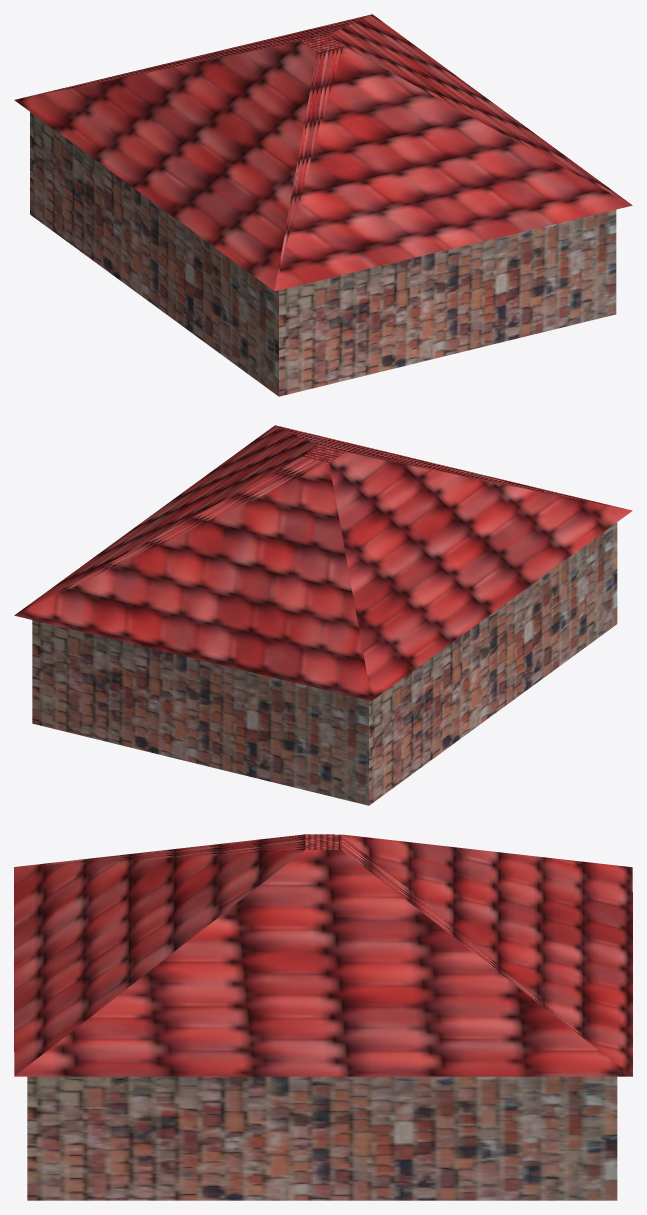
The model's file is house.glb.
The picture shows the model from 3 angles, top to bottom: view 1: azimuth 30°, elevation 25°; view 2: azimuth 150°, elevation 25°; view 3: azimuth 270°, elevation 25°; orthographic projection. The views are drawn at different scales.
Parts seen in each view (by area): view 1: Cube; view 2: Cube; view 3: Cube.
Boxes of the visible parts, box(x1,y1,x2,y2) form: Cube: box(14, 14, 632, 396); Cube: box(14, 425, 632, 805); Cube: box(14, 834, 632, 1200).
Bounding box in the file's own units: 6.85 × 4.02 × 8.63.
1 material, 1 textured.
